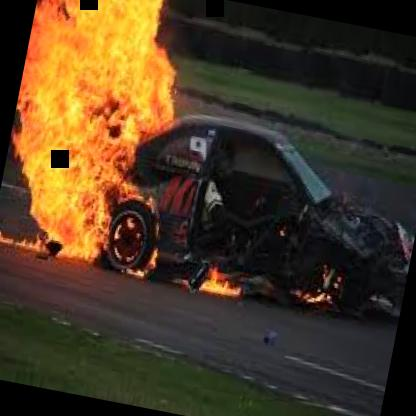fire: (0, 0, 243, 284)
